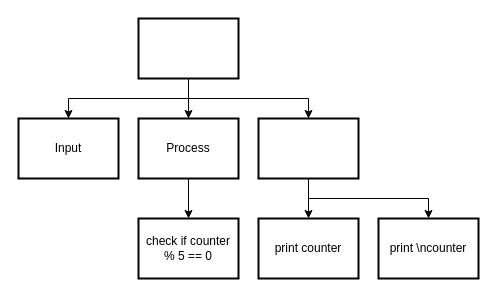
This 496x296 diagram has some shape labels left out. The centre of each missing label's shape, as x and y in pixels:
"Output" belongs at point (308, 148).
"thousand_counter" belongs at point (188, 48).
